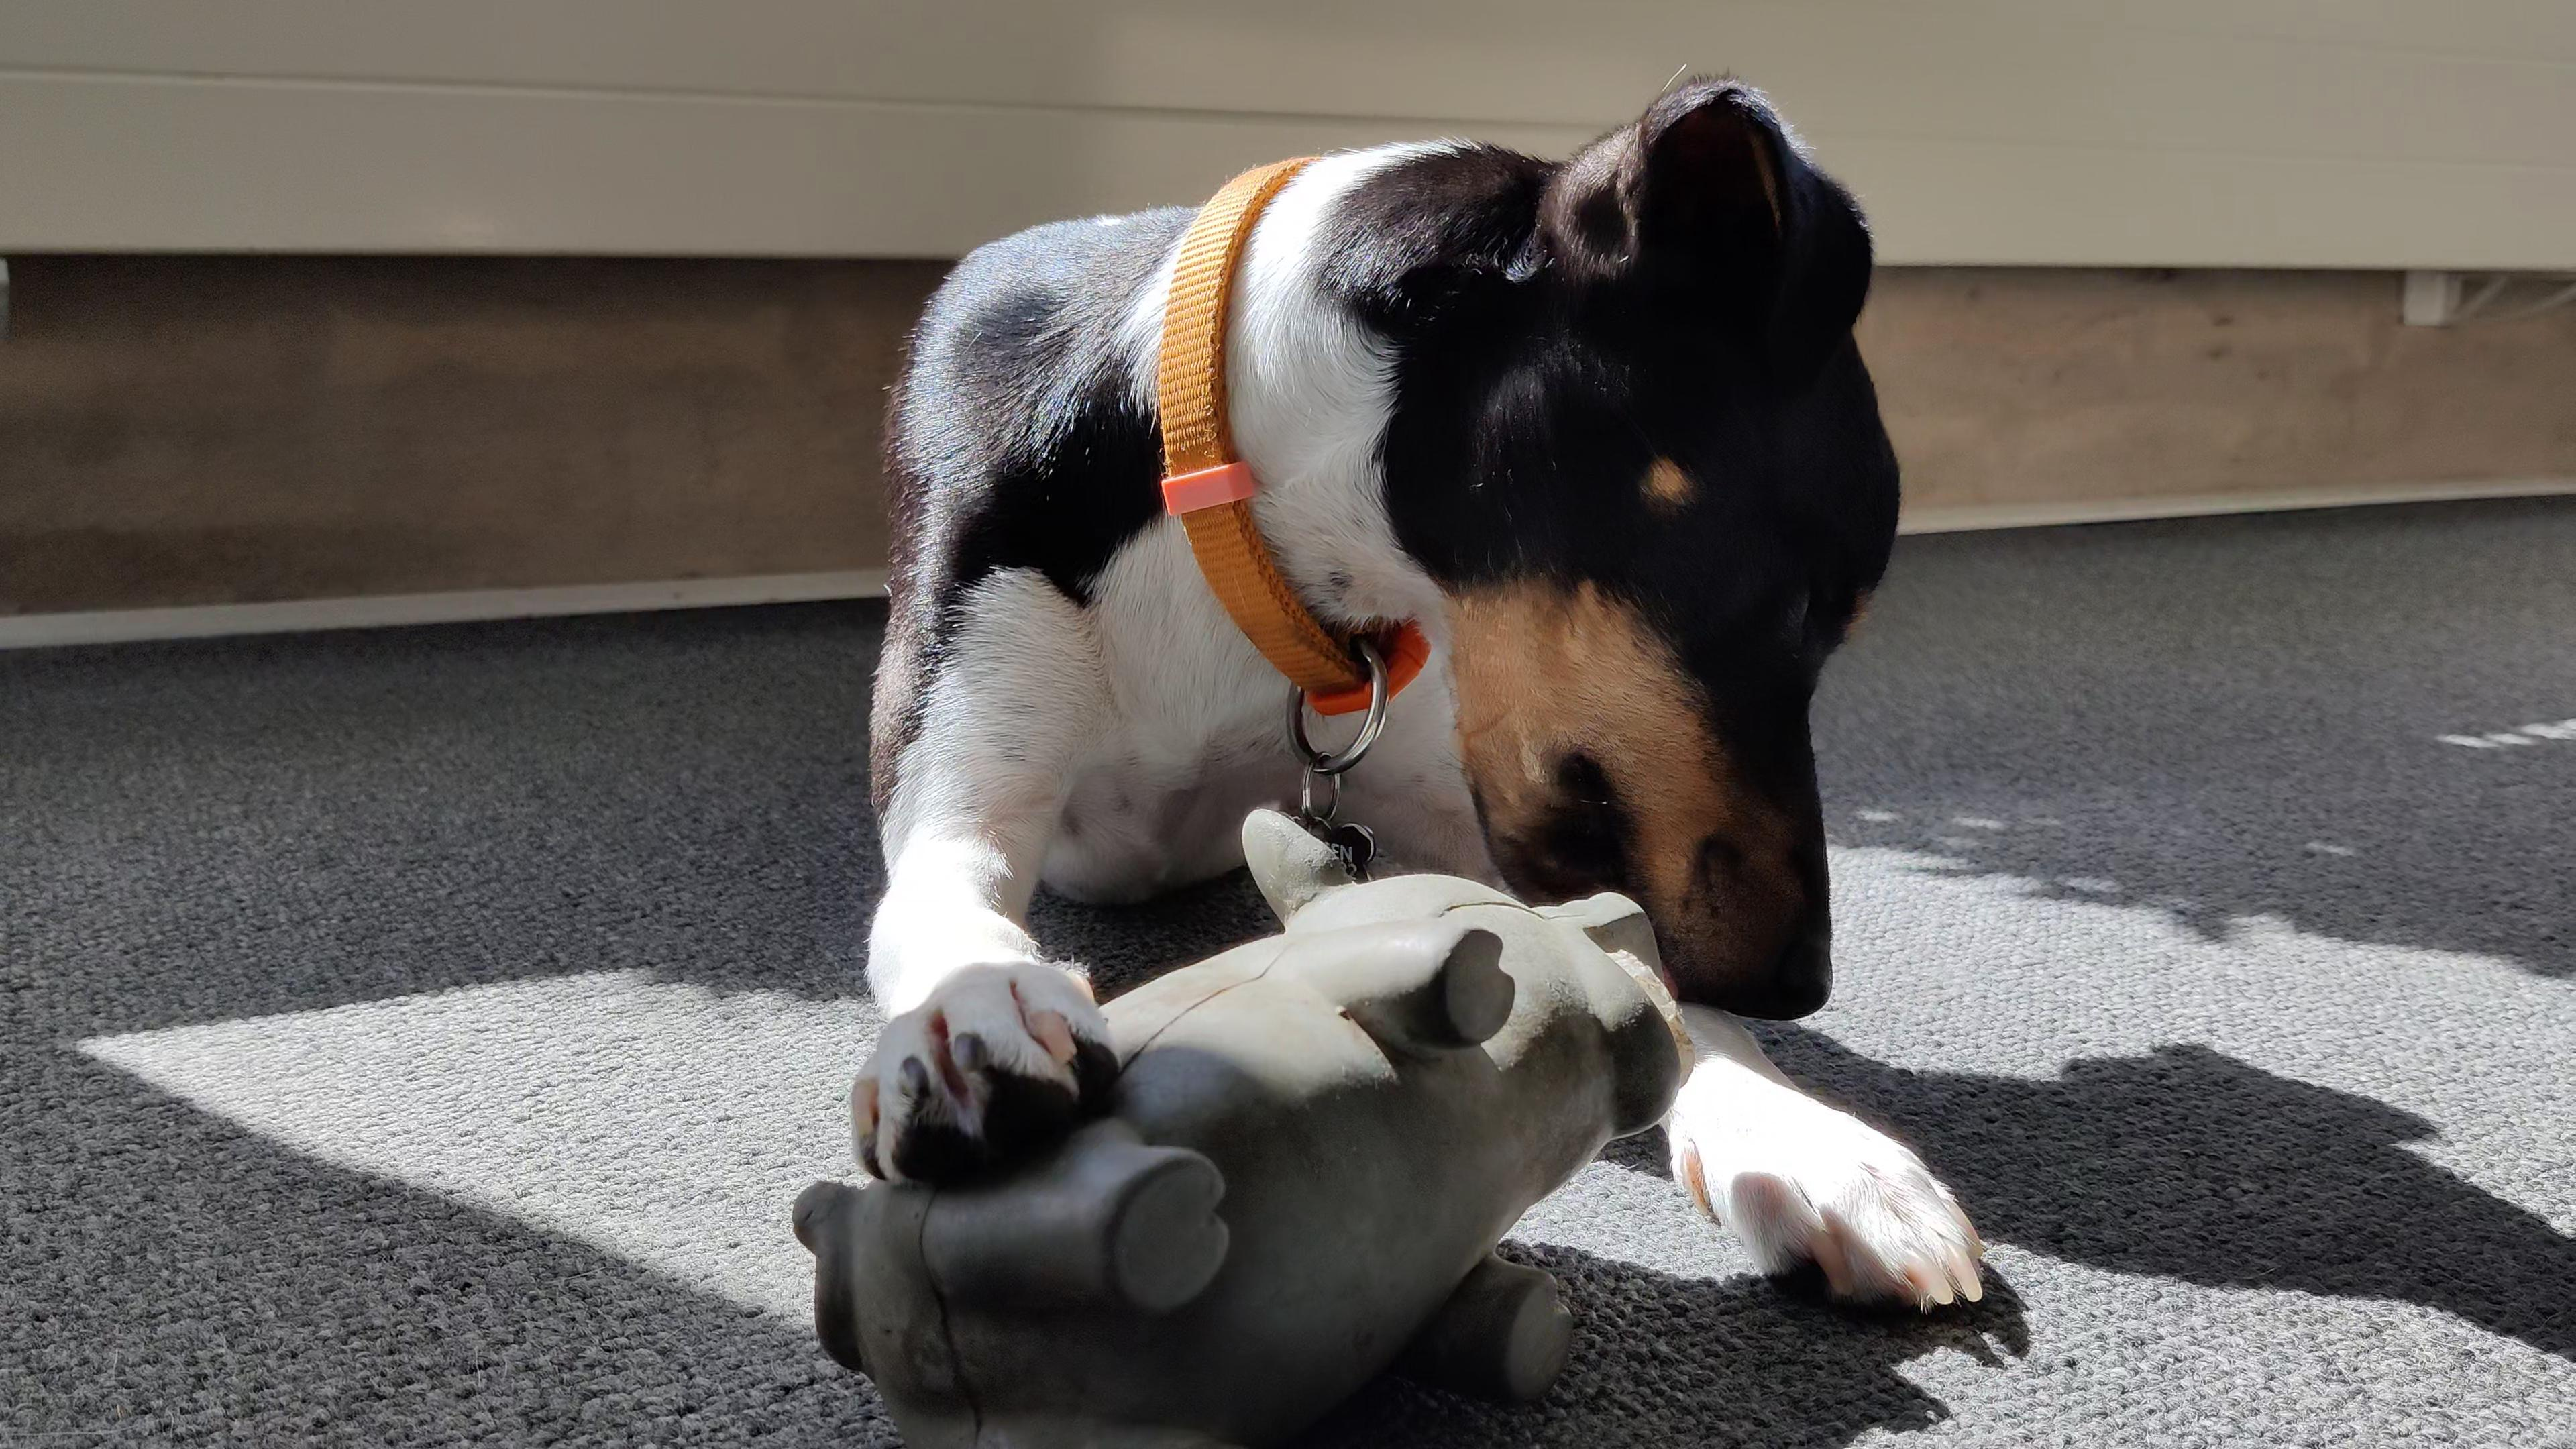Dog: (844, 60, 2005, 1318)
